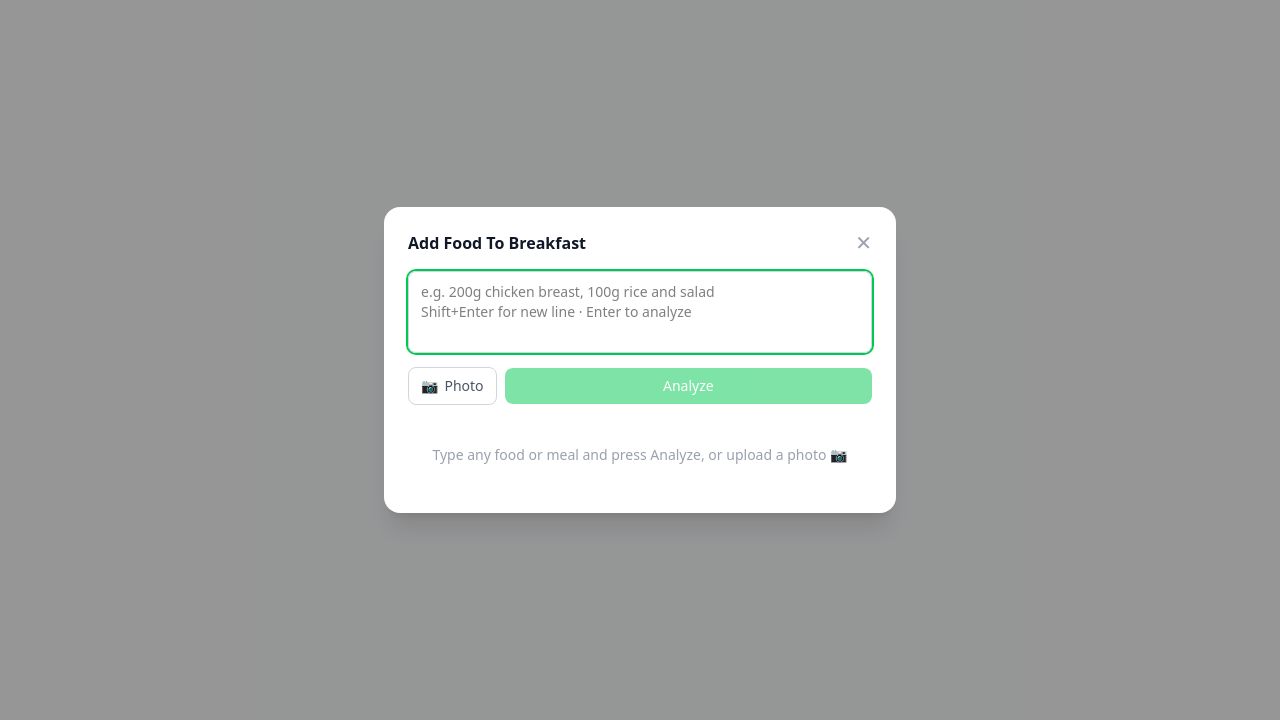
Test: FoodSearch › shows results after clicking Analyze
Replace the text in the text box with "banana": (640, 312) [408, 271, 872, 353]
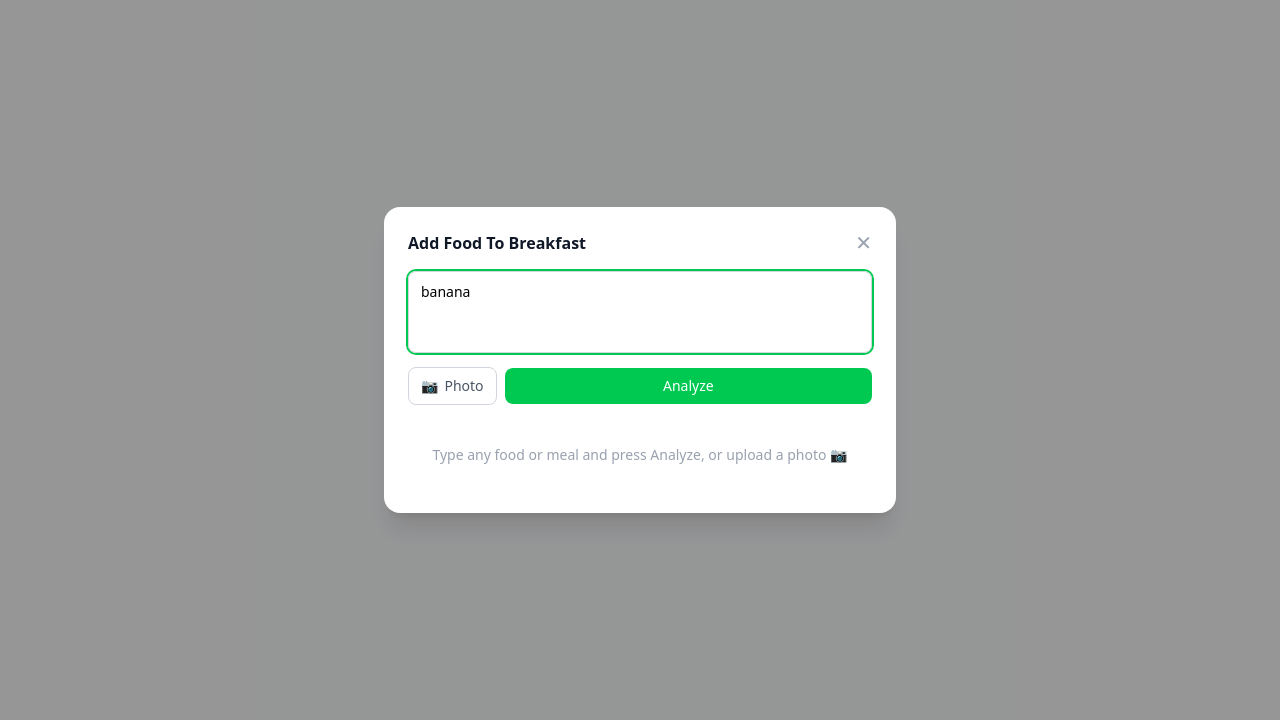
Click the button "Analyze": (688, 386) [505, 368, 872, 404]
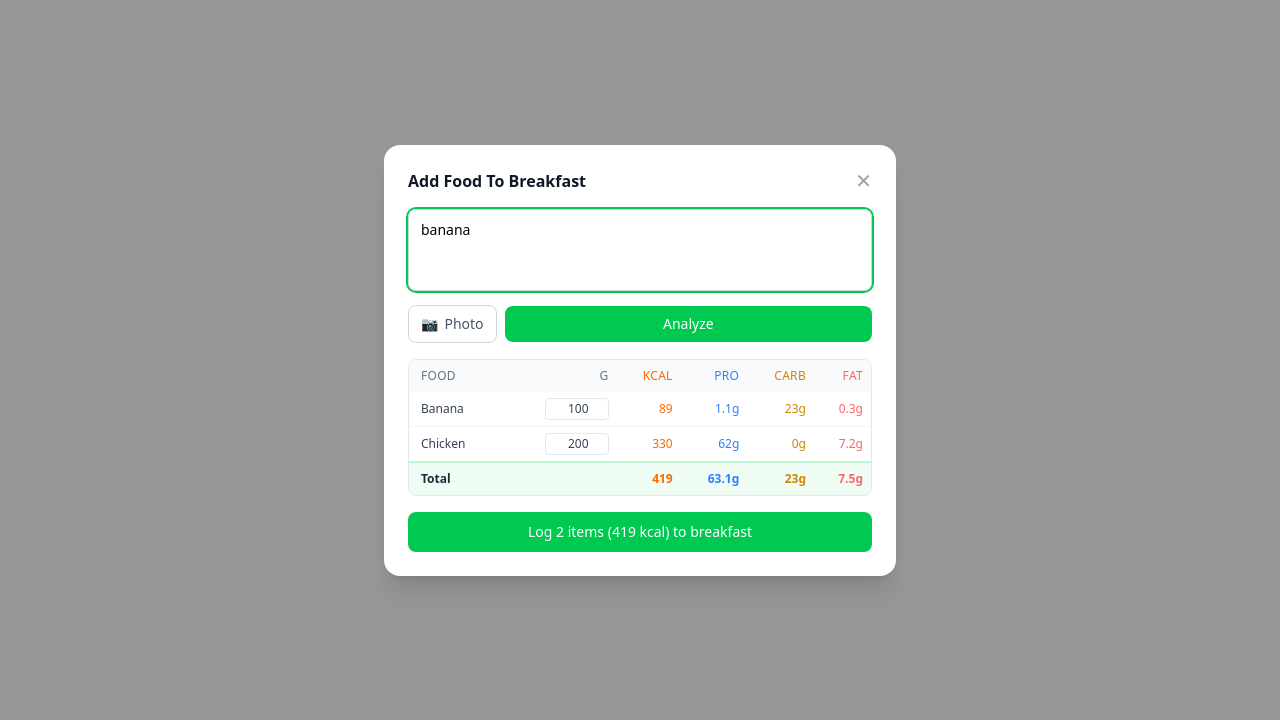
Result: the text "Banana" is shown at [409, 392, 505, 426]
Result: the text "Chicken" is shown at [409, 426, 505, 462]
